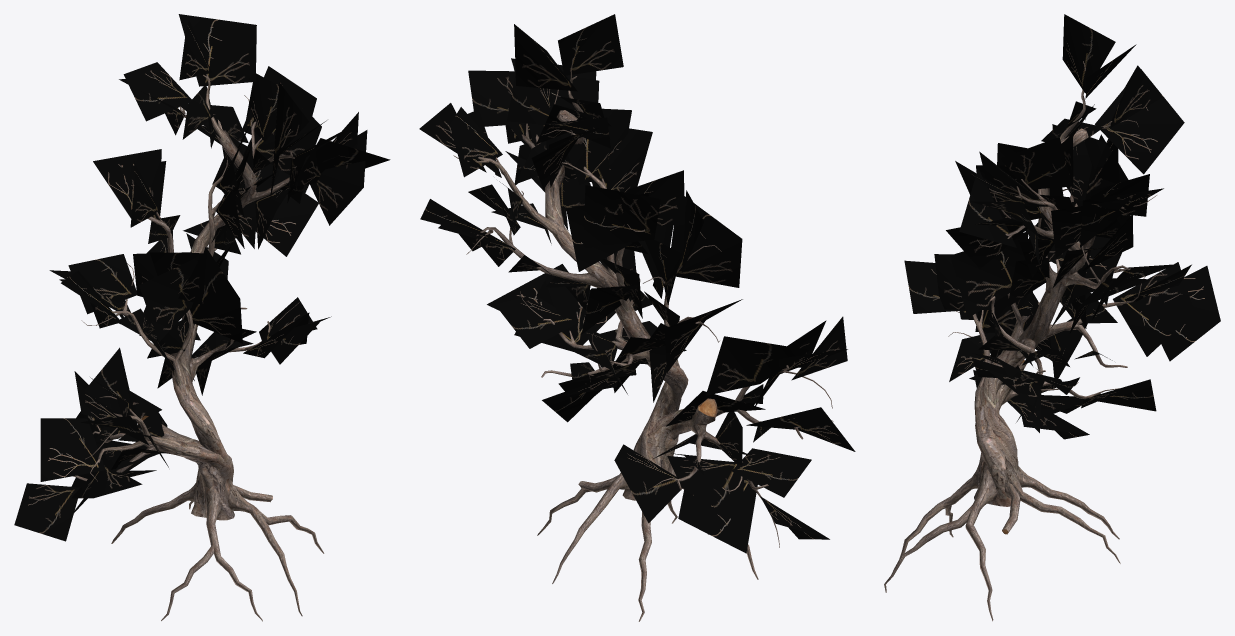
File: pr_oldtree.glb
3 renders of one model, left to right at view 1: azimuth 30°, elevation 25°; view 2: azimuth 150°, elevation 25°; view 3: azimuth 270°, elevation 25°, orthographic. The views are drawn at different scales.
Visible parts, largest first — view 1: body|Tree_2Mat, body|Tree_0Mat; view 2: body|Tree_2Mat, body|Tree_0Mat; view 3: body|Tree_2Mat, body|Tree_0Mat.
Boxes of the visible parts, bbox=[...] form: body|Tree_2Mat: bbox=[14, 14, 390, 541]; body|Tree_0Mat: bbox=[73, 51, 336, 621]; body|Tree_2Mat: bbox=[419, 14, 855, 553]; body|Tree_0Mat: bbox=[453, 51, 833, 621]; body|Tree_2Mat: bbox=[904, 14, 1220, 439]; body|Tree_0Mat: bbox=[884, 61, 1182, 621].
Bounding box in the file's own units: 9.25 × 13.9 × 7.53.
Materials: 3 (3 with a texture image).
